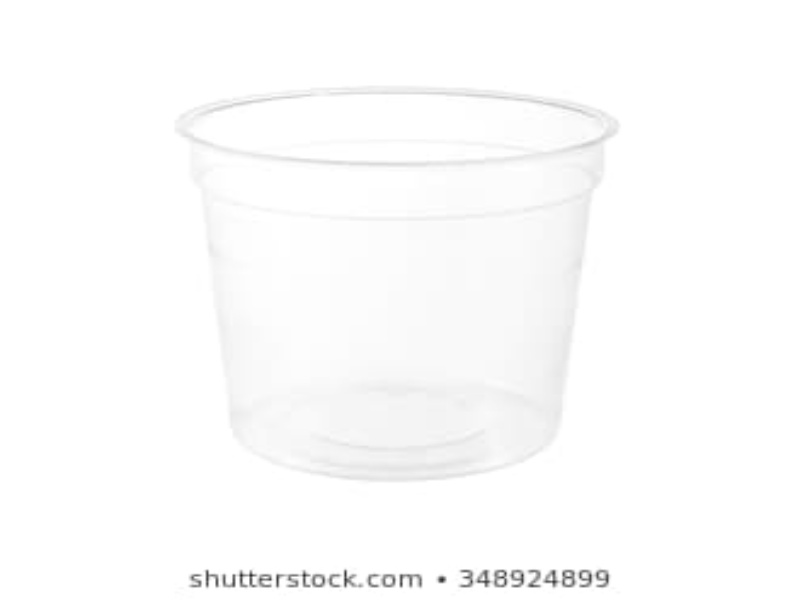plastic-cup: (172, 80, 623, 484)
